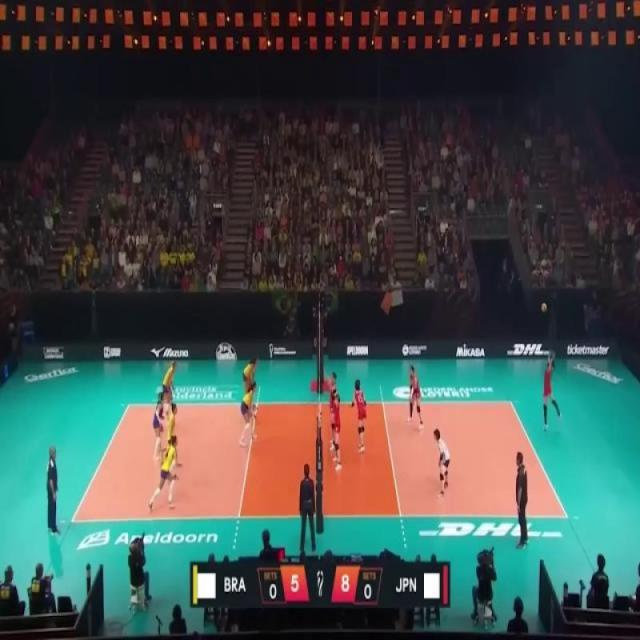volleyball: (541, 302, 547, 314)
